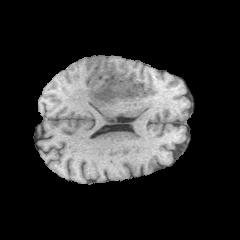glioma: (86, 81, 143, 124)
